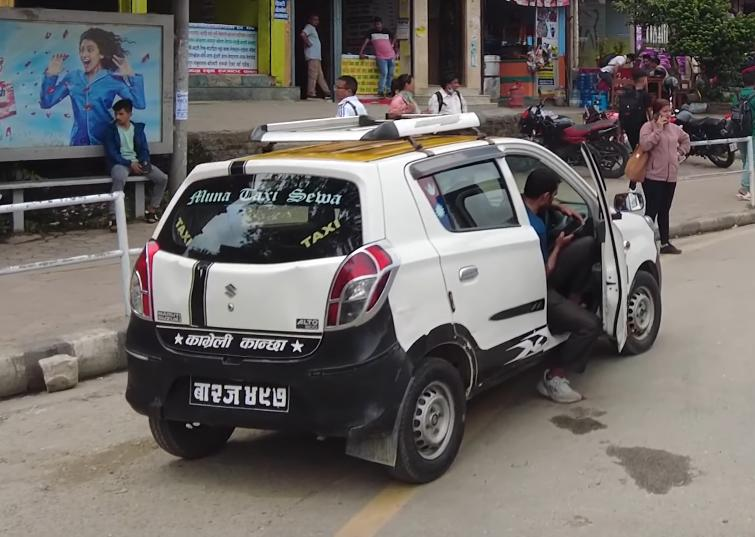bike: (512, 93, 632, 177)
taxi: (111, 98, 687, 475)
